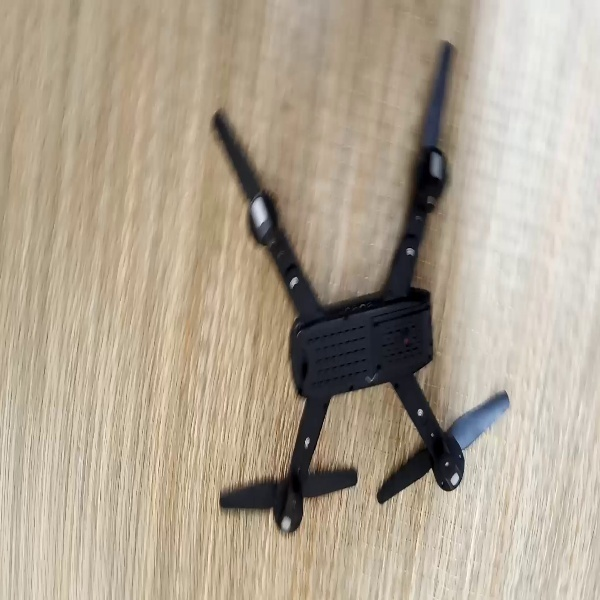drone: (188, 37, 512, 536)
